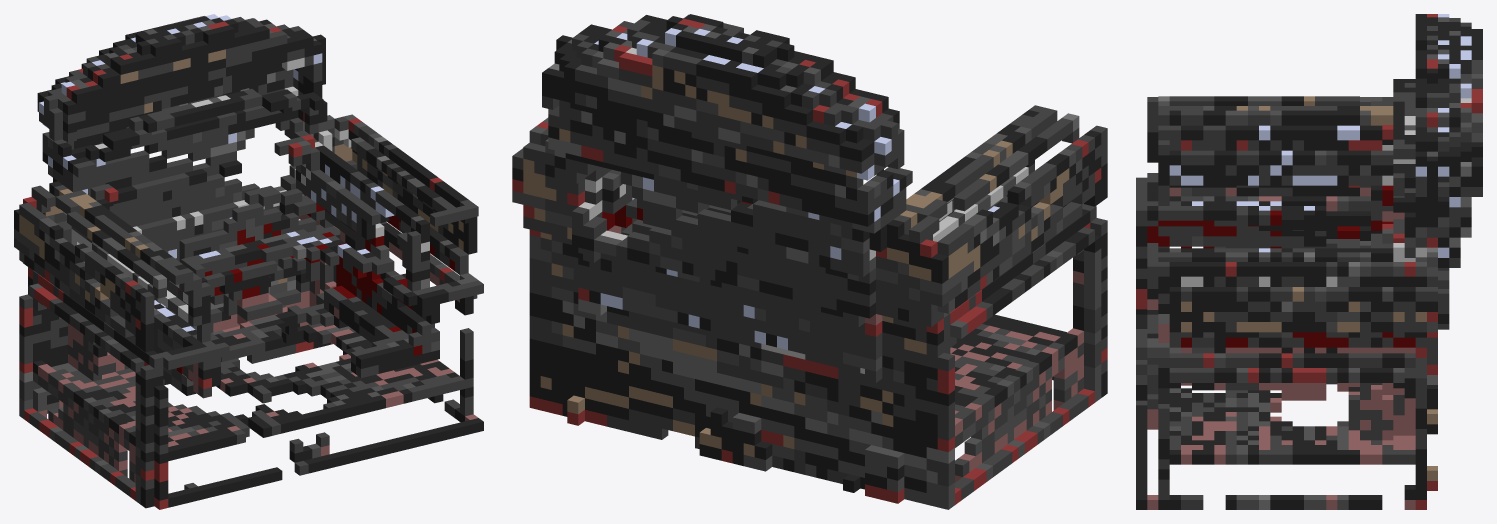
Rendered from divan-kreslo musor.obj.
The picture shows the model from 3 angles, left to right: view 1: azimuth 30°, elevation 25°; view 2: azimuth 150°, elevation 25°; view 3: azimuth 270°, elevation 25°; orthographic projection. The views are drawn at different scales.
Size of the model in its own units: 39 by 37 by 31.
1 material, 1 textured.
